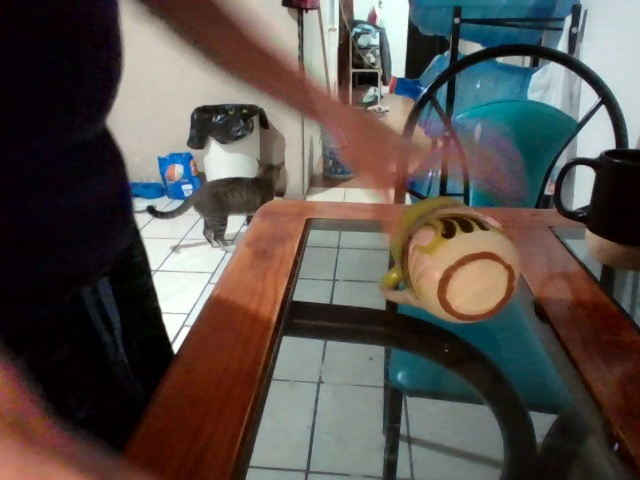taza: (554, 147, 640, 247)
